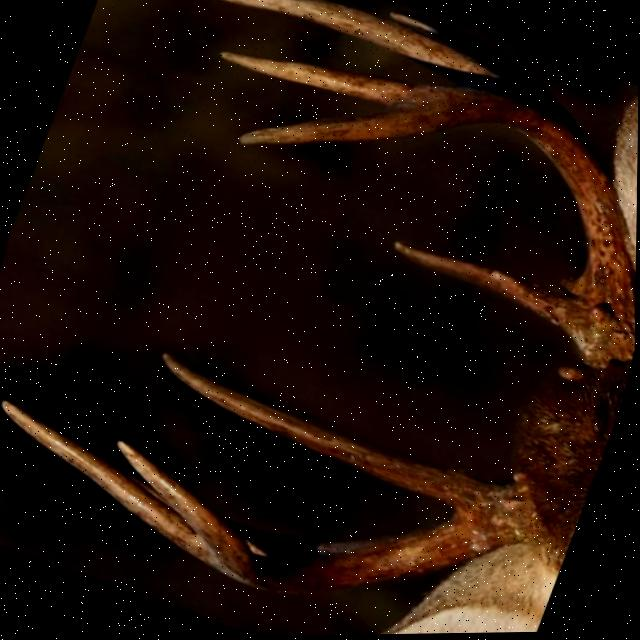L-F: (236, 78, 636, 364)
L-G1: (391, 241, 571, 327)
R-F: (116, 440, 548, 597)
R-G1: (160, 352, 502, 510)
